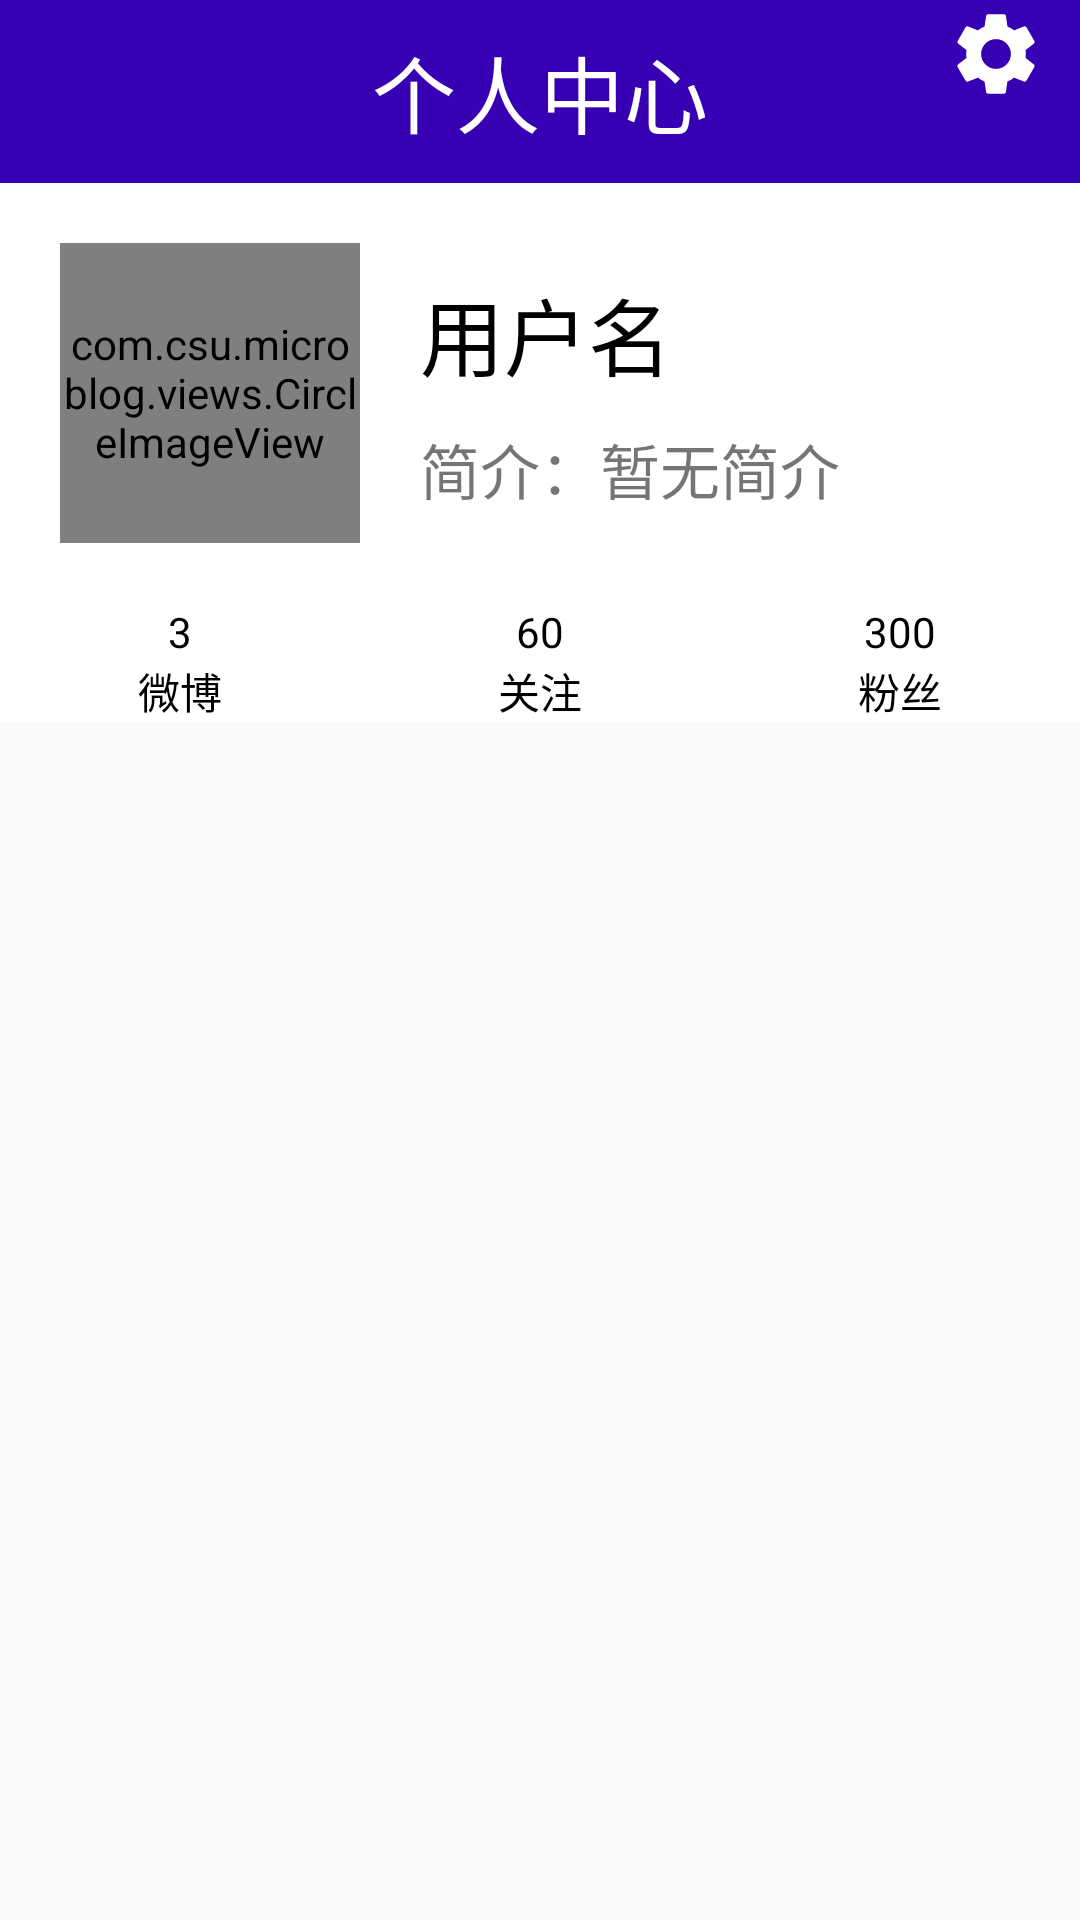

Icon bounding boxes for this 1080×1920 phone screenshot, format detection(x1, y1, x2, y2):
setting: detection(957, 14, 1035, 94)
